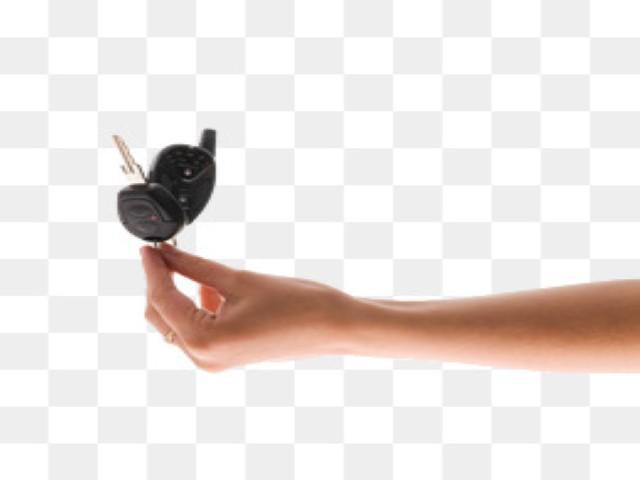key: (108, 126, 182, 182)
